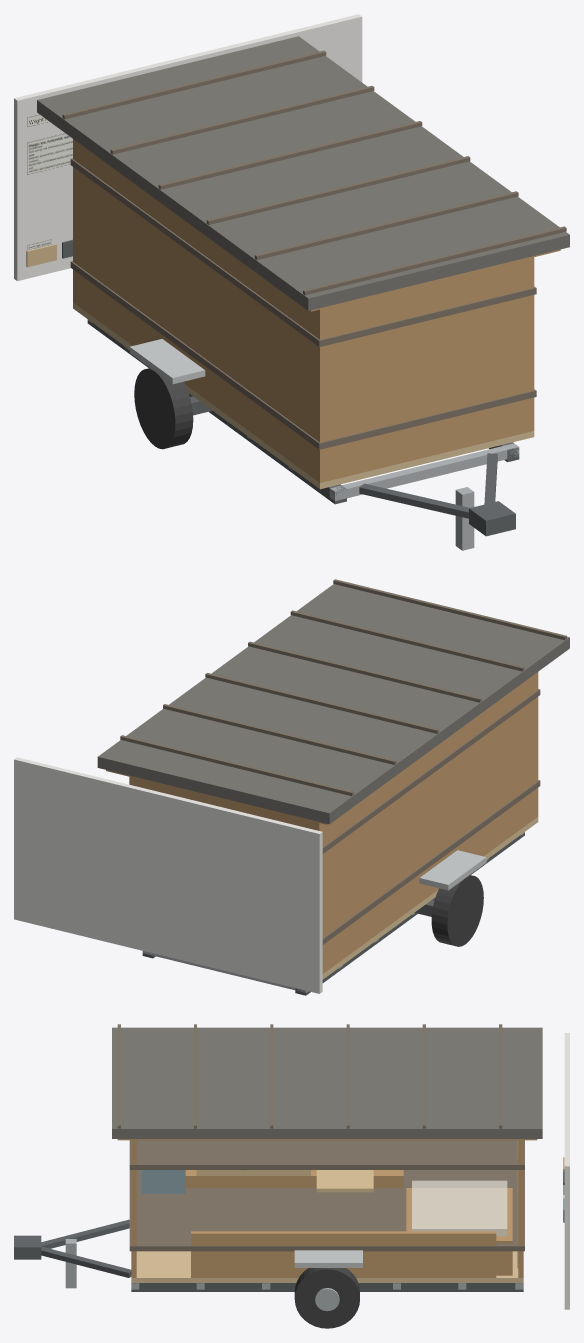
File: wright-usonian-trailer.dae
3 renders of one model, top to bottom at view 1: azimuth 30°, elevation 25°; view 2: azimuth 150°, elevation 25°; view 3: azimuth 270°, elevation 25°, orthographic. The views are drawn at different scales.
Visible parts, largest first — view 1: single flat roof slab with overhang, left warm plywood wall, front compressed wall, Wright / Usonian Trailer label board backing, dark horizontal base trim, dark clerestory trim, left trailer wheel, 6x12 plywood trailer deck.001, steel crossmember y=0, left simple metal fender, exposed thin roof batten 79, exposed thin roof batten 107 (+9 smaller); view 2: single flat roof slab with overhang, Wright / Usonian Trailer label board backing, left warm plywood wall, left trailer wheel, rear wall with door panel, dark clerestory trim, dark horizontal base trim, left simple metal fender, exposed thin roof batten 23, exposed thin roof batten 51, exposed thin roof batten -5, exposed thin roof batten 135 (+5 smaller); view 3: single flat roof slab with overhang, dark horizontal base trim, dark clerestory trim, cutaway right low sill, thin sleeping pad, 6x12 plywood trailer deck.001, right trailer wheel, right steel frame rail, continuous storage bench under window, Wright / Usonian Trailer label board backing, fold-down eating/work surface lowered, right simple metal fender (+16 smaller).
Part boxes in pixels (x1,y1,x2,y2): single flat roof slab with overhang: (37,36,569,310); left warm plywood wall: (73,139,325,482); front compressed wall: (316,257,534,482); Wright / Usonian Trailer label board backing: (14,14,362,281); dark horizontal base trim: (70,261,536,449); dark clerestory trim: (70,158,536,346); left trailer wheel: (134,368,193,449); 6x12 plywood trailer deck.001: (73,302,534,489); steel crossmember y=0: (329,443,519,501); left simple metal fender: (129,339,205,384); exposed thin roof batten 79: (158,121,422,189); exposed thin roof batten 107: (110,85,374,154); single flat roof slab with overhang: (97,584,569,824); Wright / Usonian Trailer label board backing: (14,757,322,993); left warm plywood wall: (314,674,538,973); left trailer wheel: (431,875,483,946); rear wall with door panel: (129,777,322,831); dark clerestory trim: (322,689,540,853); dark horizontal base trim: (322,780,540,944); left simple metal fender: (419,850,486,890); exposed thin roof batten 23: (290,610,524,671); exposed thin roof batten 51: (248,641,481,702); exposed thin roof batten -5: (333,579,566,640); exposed thin roof batten 135: (120,735,353,796); single flat roof slab with overhang: (112,1027,542,1138); dark horizontal base trim: (129,1170,524,1251); dark clerestory trim: (129,1140,524,1169); cutaway right low sill: (191,1231,496,1277); thin sleeping pad: (412,1180,507,1236); 6x12 plywood trailer deck.001: (131,1251,523,1282); right trailer wheel: (294,1268,359,1328); right steel frame rail: (131,1283,523,1291); continuous storage bench under window: (185,1170,403,1188); Wright / Usonian Trailer label board backing: (564,1033,569,1309); fold-down eating/work surface lowered: (316,1170,373,1192); right simple metal fender: (294,1250,362,1267).
Bounding box in the file's own units: 3.07 × 5.18 × 2.17.
Materials: 25 (9 with a texture image).
